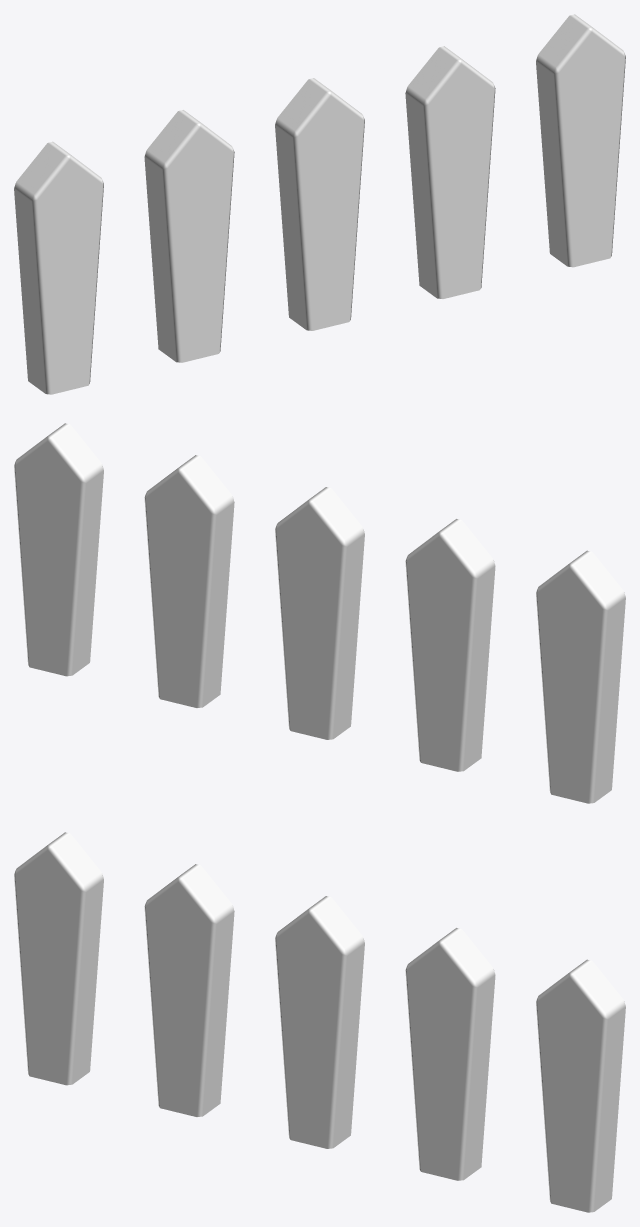
Rendered from Fence_WhitePicket_Piece2.fbx.
3 renders of one model, top to bottom at view 1: azimuth 30°, elevation 25°; view 2: azimuth 150°, elevation 25°; view 3: azimuth 330°, elevation 25°, orthographic.
Parts seen in each view (by area): view 1: Cube.093; view 2: Cube.093; view 3: Cube.093.
Part boxes in pixels (bbox=[...]): Cube.093: bbox=[14, 14, 625, 394]; Cube.093: bbox=[14, 423, 625, 803]; Cube.093: bbox=[14, 832, 625, 1212].
Size of the model in its own units: 311 by 117 by 20.
